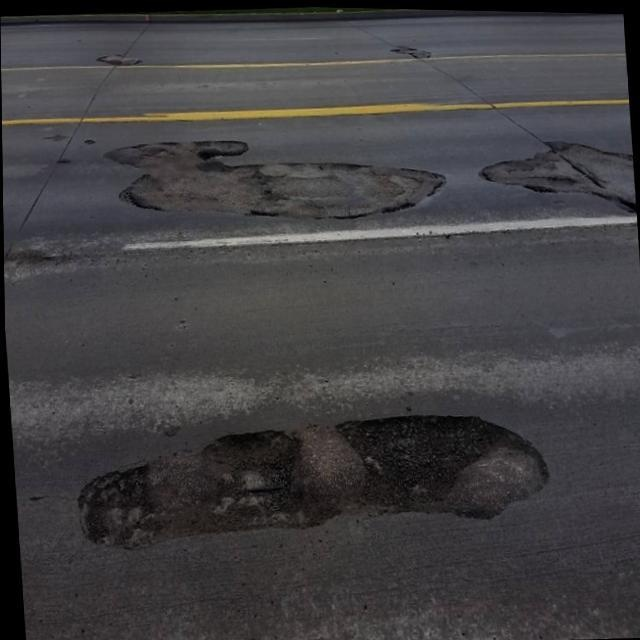pothole: (343, 415, 549, 518), (482, 152, 583, 191), (104, 145, 166, 163), (391, 48, 431, 61)
